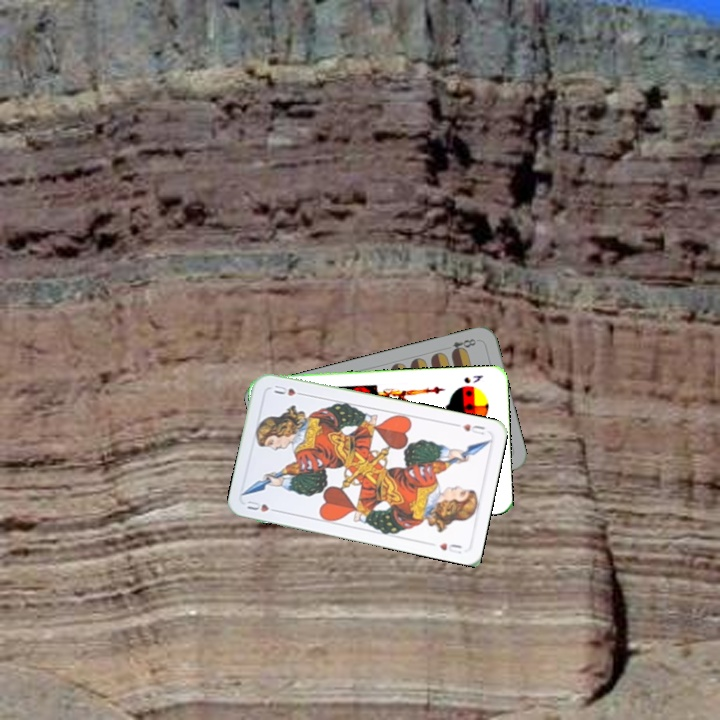E8: (447, 335, 481, 357)
HU: (243, 497, 282, 515), (458, 420, 487, 437)
SK: (460, 371, 485, 386)
